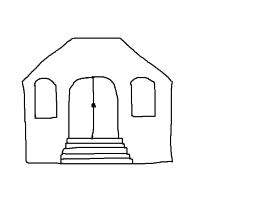door: (65, 76, 122, 143)
open_window: (31, 74, 60, 123), (128, 77, 159, 120)
single_line_roof: (21, 33, 173, 76)
wall: (21, 83, 175, 168)
